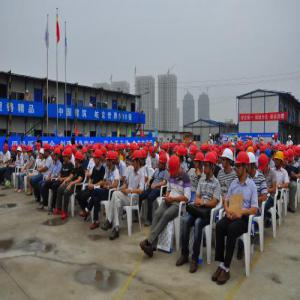red: (235, 152, 251, 183), (205, 154, 218, 176), (170, 156, 181, 177), (259, 155, 270, 174), (133, 151, 144, 169), (196, 154, 206, 169), (107, 153, 117, 168), (160, 155, 169, 170), (64, 149, 73, 164), (75, 153, 84, 167), (53, 148, 62, 162), (289, 149, 296, 166), (94, 151, 102, 165), (45, 144, 51, 158), (150, 148, 156, 158), (29, 148, 34, 158), (5, 144, 10, 154)
white: (222, 148, 234, 171), (40, 148, 46, 160), (18, 148, 23, 157)
yellow: (275, 152, 285, 168)
